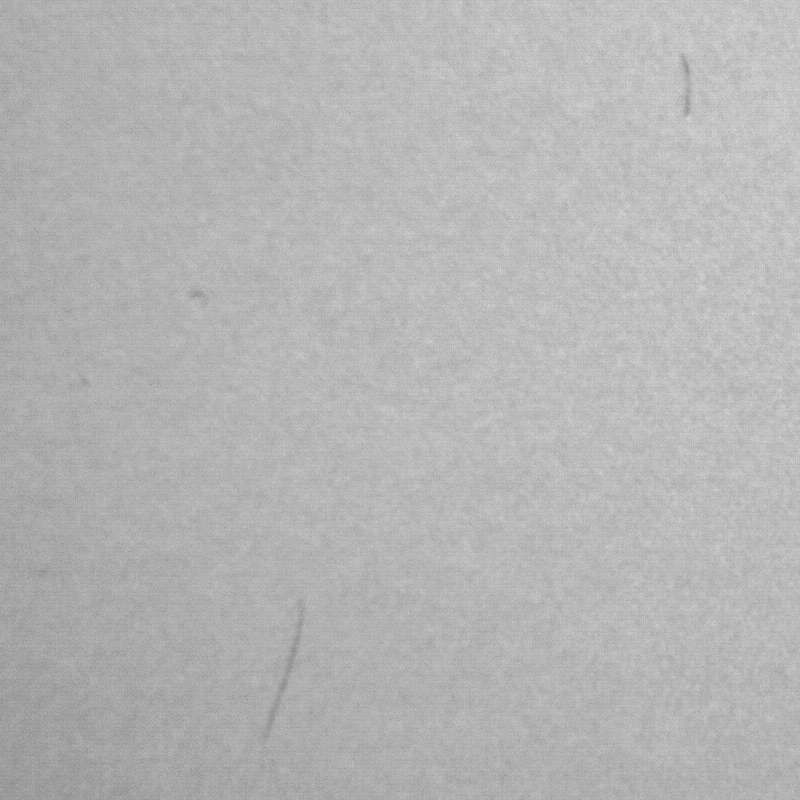defect: (263, 599, 298, 740), (683, 56, 694, 123), (192, 290, 210, 307), (78, 373, 92, 392)
